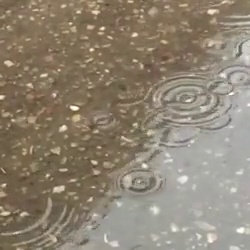drop: (1, 185, 70, 247), (146, 104, 200, 147), (111, 166, 161, 195), (106, 76, 150, 106), (194, 103, 233, 133), (217, 64, 250, 87), (207, 79, 235, 97), (91, 111, 115, 131), (205, 38, 226, 52), (33, 78, 53, 92), (15, 116, 31, 128)
